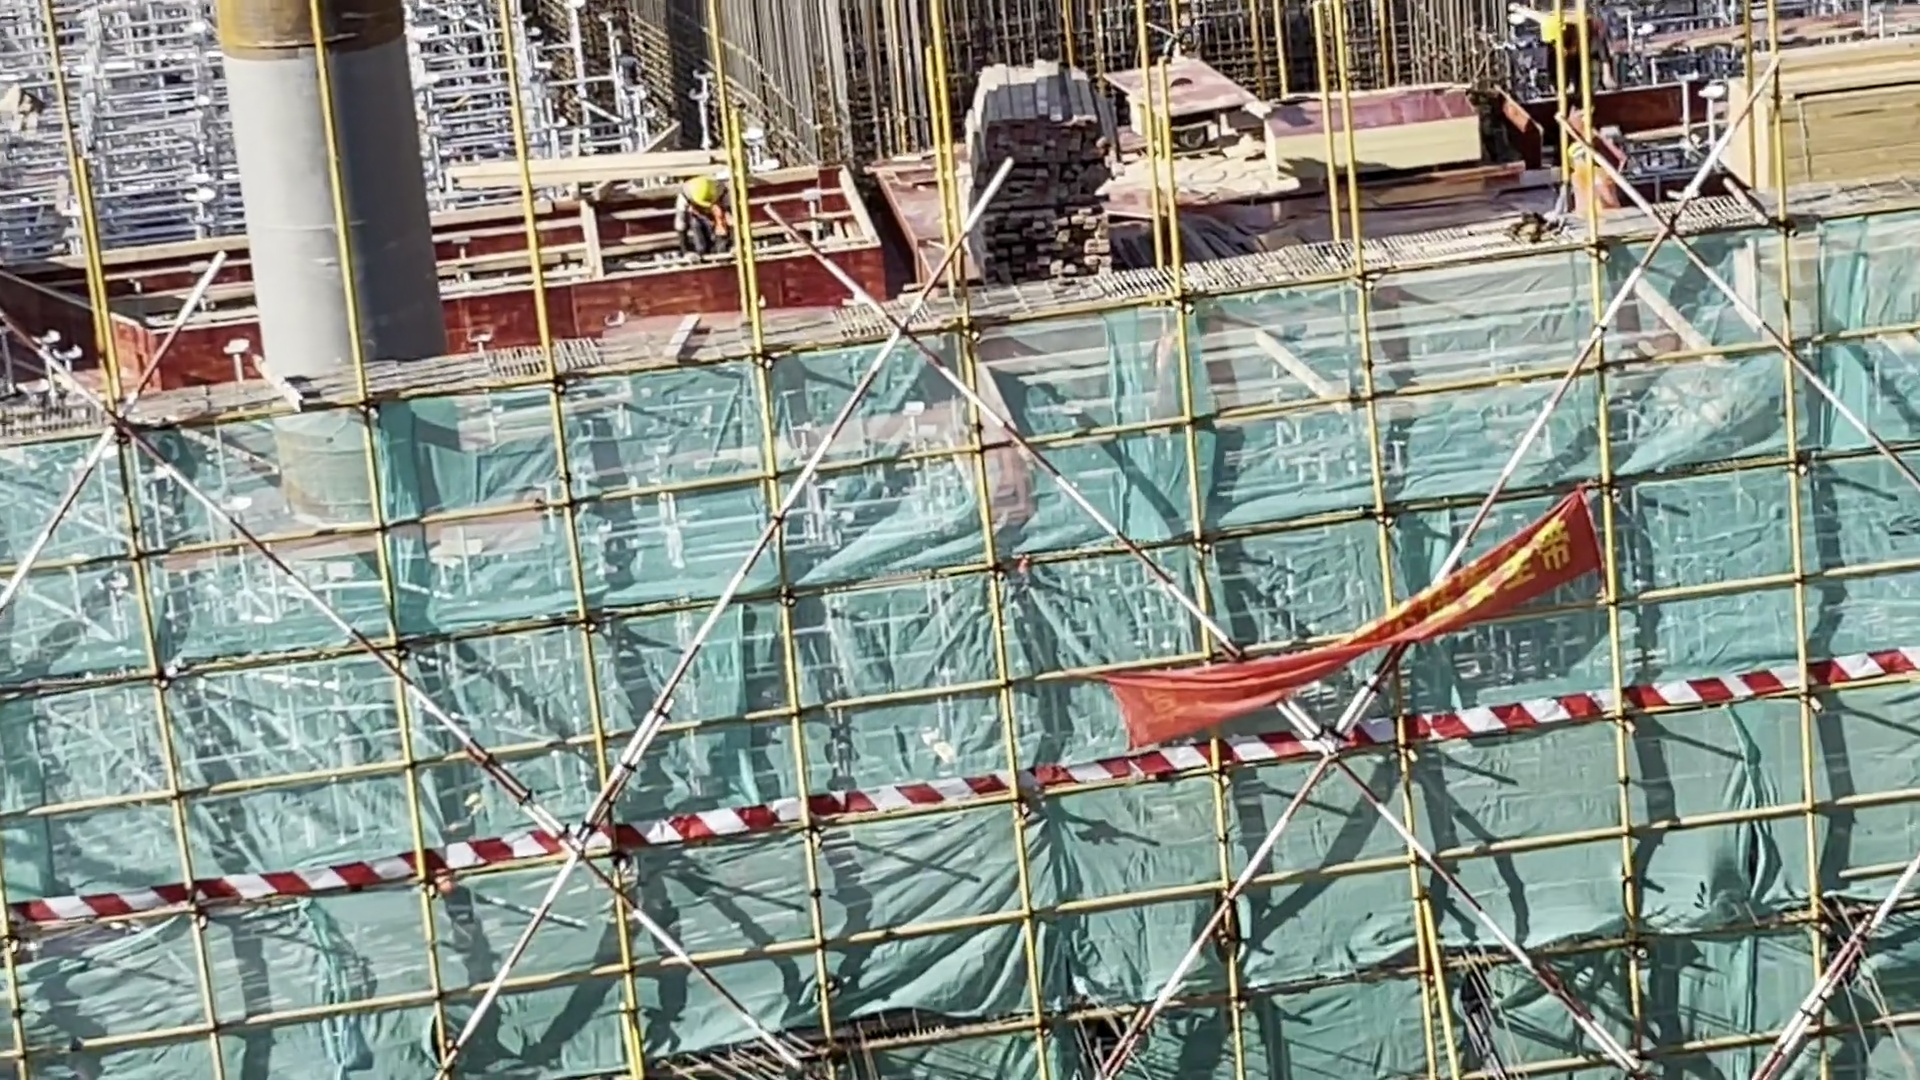helmet: (684, 176, 728, 213), (1569, 135, 1595, 163)
person: (1544, 138, 1637, 215), (663, 175, 748, 257)
slogan: (1077, 486, 1618, 742)
vest: (1568, 162, 1618, 212)
wood: (949, 43, 1129, 301), (1717, 34, 1920, 205)
